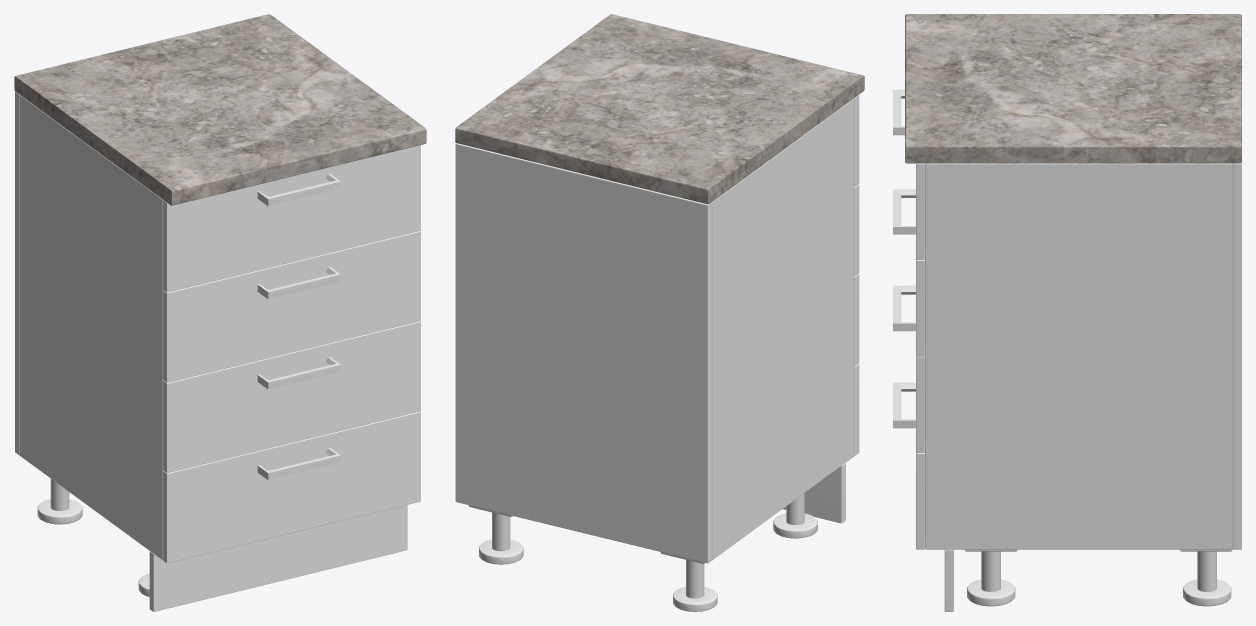
Rendered from ex_cabinet.glb.
The picture shows the model from 3 angles, left to right: view 1: azimuth 30°, elevation 25°; view 2: azimuth 150°, elevation 25°; view 3: azimuth 270°, elevation 25°; orthographic projection. The views are drawn at different scales.
Visible parts, largest first — view 1: Cabinet_Base_Four_Drawers; view 2: Cabinet_Base_Four_Drawers; view 3: Cabinet_Base_Four_Drawers.
Part boxes in pixels (x1,y1,x2,y2): Cabinet_Base_Four_Drawers: (14,14,426,611); Cabinet_Base_Four_Drawers: (455,14,864,611); Cabinet_Base_Four_Drawers: (893,14,1241,611).
Size of the model in its own units: 55.97 by 91.48 by 62.13.
7 materials, 7 textured.
